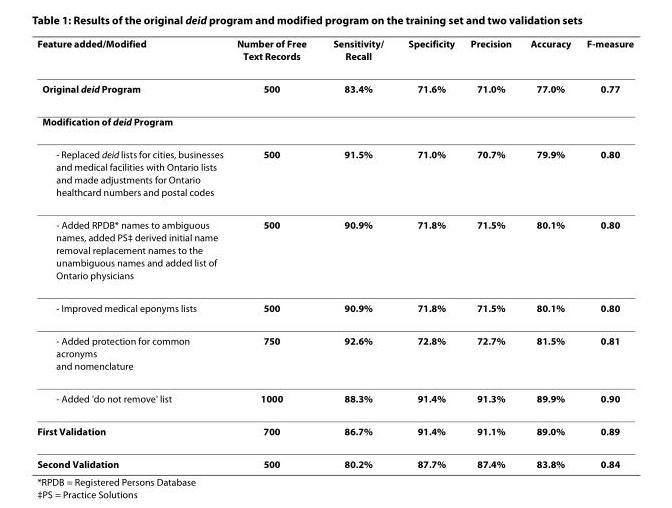table: (36, 36, 633, 469)
table column: (36, 36, 229, 469), (229, 36, 319, 469), (319, 36, 395, 469), (395, 36, 461, 469), (461, 36, 520, 469), (520, 36, 578, 469), (578, 36, 633, 469)
table column header: (36, 36, 633, 71)
table projected row header: (36, 104, 633, 137)
table row: (36, 207, 633, 290), (36, 137, 633, 207), (36, 323, 633, 381), (36, 36, 633, 71), (36, 71, 633, 104), (36, 104, 633, 137), (36, 290, 633, 323), (36, 381, 633, 414), (36, 414, 633, 446), (36, 446, 633, 469)
